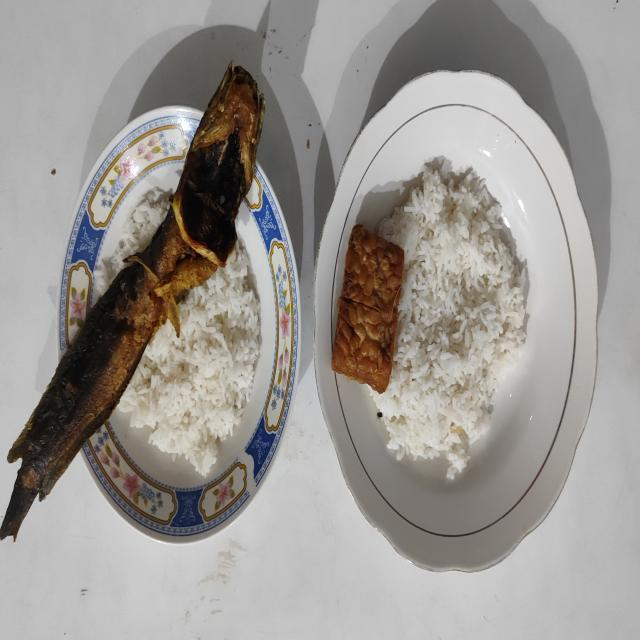nasi_putih: (372, 158, 528, 479), (116, 239, 260, 477), (94, 187, 174, 296)
tempe_goreng: (332, 224, 404, 393)
